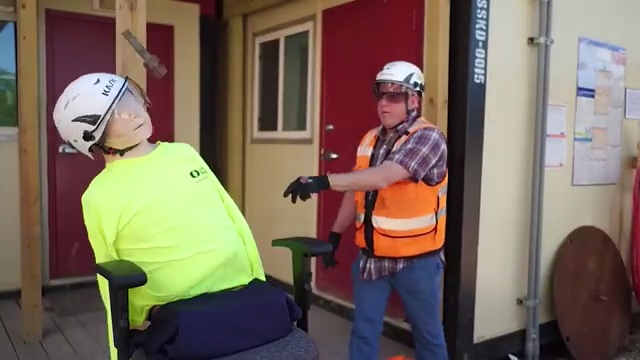helmet: (58, 56, 142, 157), (366, 52, 428, 96)
jacket: (352, 112, 457, 263)
